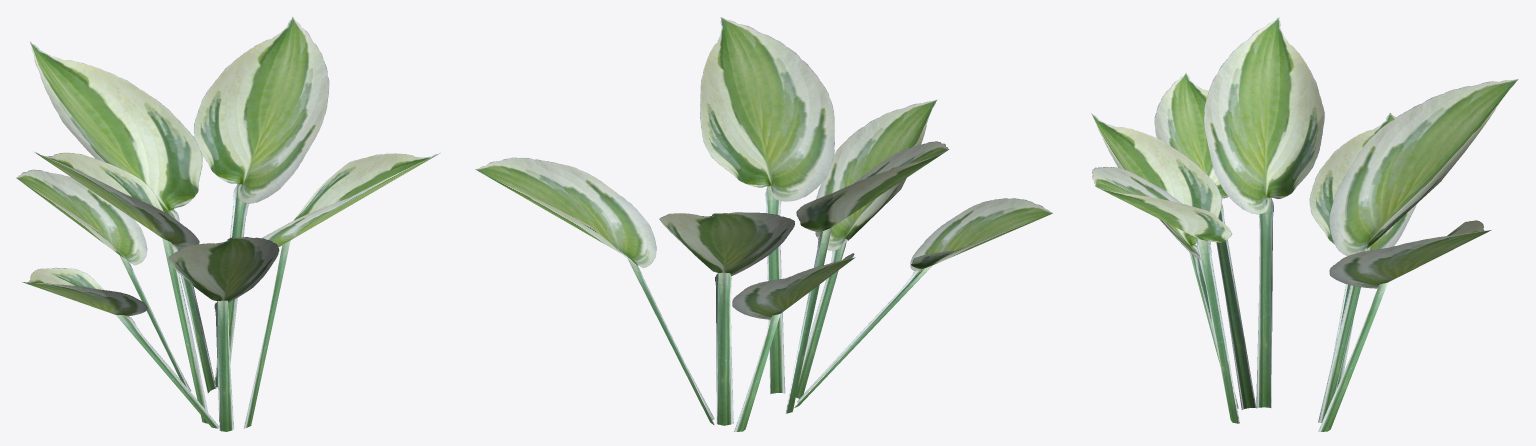
The model's file is plant_small_wg_02P.fbx.
The picture shows the model from 3 angles, left to right: view 1: azimuth 30°, elevation 25°; view 2: azimuth 150°, elevation 25°; view 3: azimuth 270°, elevation 25°; orthographic projection.
Visible parts, largest first — view 1: plant_small_wg_02P; view 2: plant_small_wg_02P; view 3: plant_small_wg_02P.
Boxes of the visible parts, x1,y1,x2,y2 form: plant_small_wg_02P: (16,17,440,431); plant_small_wg_02P: (475,17,1052,431); plant_small_wg_02P: (1091,17,1518,431).
Bounding box in the file's own units: 70.36 × 48.45 × 61.67.
